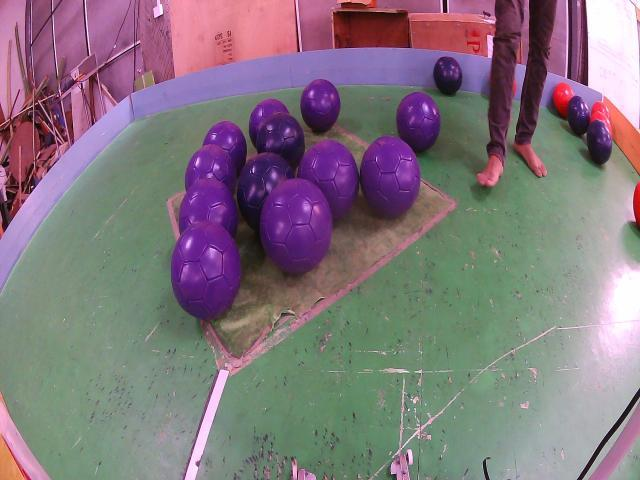jambhalya: (171, 220, 241, 320), (259, 178, 331, 273), (298, 140, 359, 221), (361, 137, 421, 218), (179, 178, 238, 238), (396, 92, 440, 152), (185, 145, 236, 193), (300, 78, 340, 132), (203, 122, 247, 171), (249, 98, 289, 147)
kaalyya: (238, 152, 294, 231), (255, 112, 305, 168), (586, 120, 612, 165), (434, 57, 462, 95), (568, 95, 590, 135)
